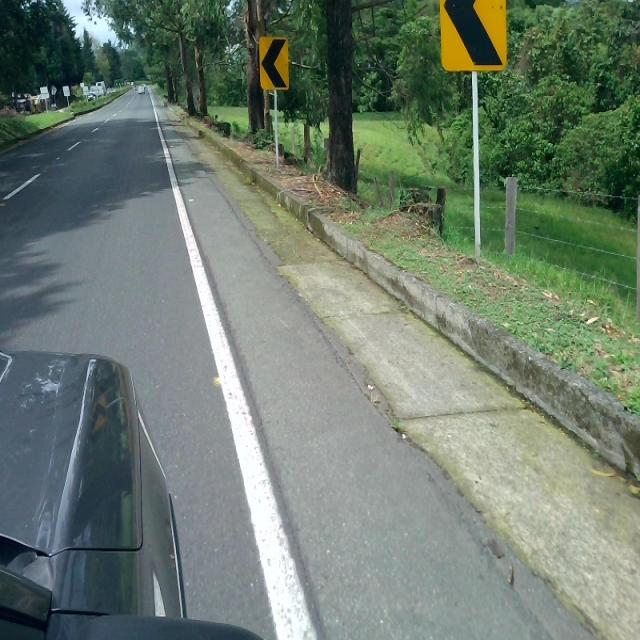DITCH: (153, 88, 639, 638)
